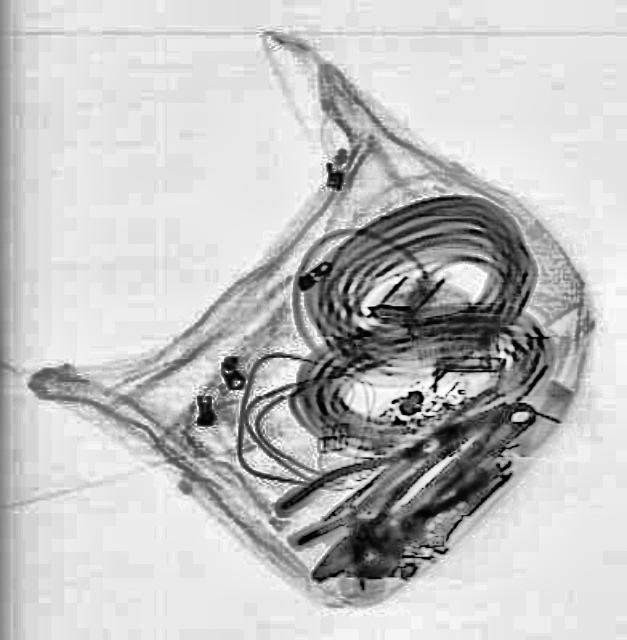Pliers: (292, 433, 490, 602), (271, 411, 467, 545)
Wrench: (338, 386, 544, 594)
